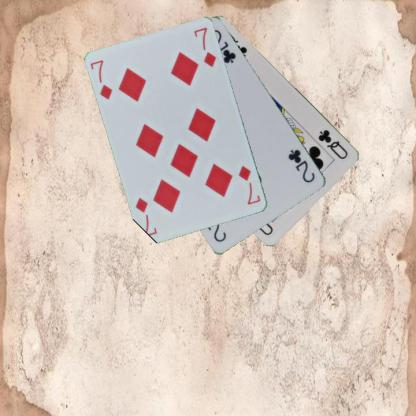2c: (286, 147, 316, 184)
7d: (88, 57, 114, 101), (236, 163, 262, 206)
Qc: (316, 126, 350, 160)
